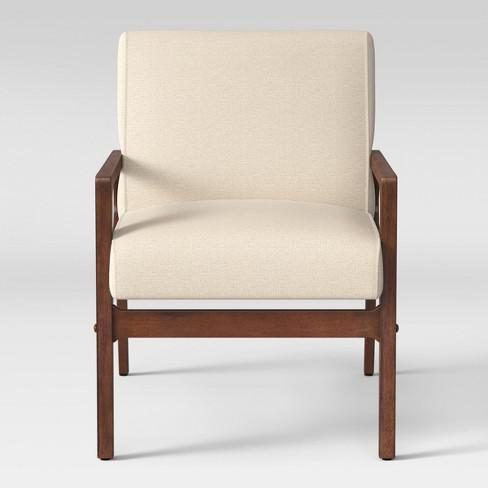chair: (80, 20, 434, 476)
